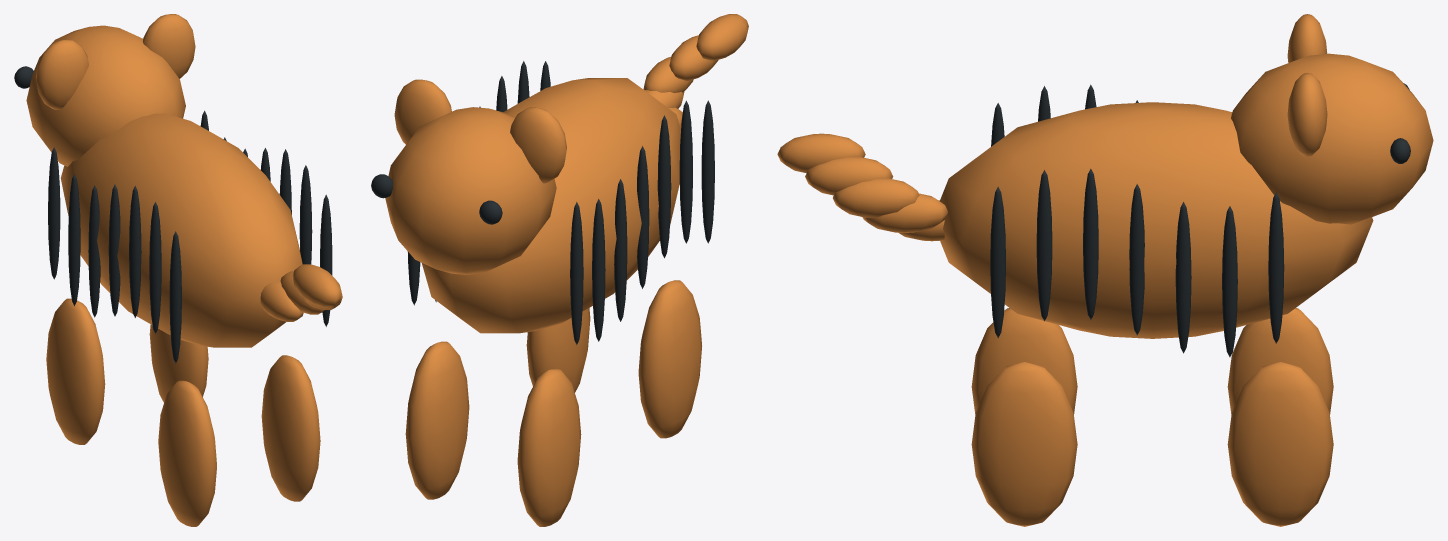
Rendered from animal_tiger.glb.
3 renders of one model, left to right at view 1: azimuth 30°, elevation 25°; view 2: azimuth 150°, elevation 25°; view 3: azimuth 270°, elevation 25°, orthographic. The views are drawn at different scales.
Parts seen in each view (by area): view 1: Body, LegBL, LegBR, LegFL, LegFR; view 2: Body, LegFR, LegBL, LegFL, LegBR; view 3: Body, LegFR, LegBR, LegBL, LegFL.
Boxes of the visible parts, bbox=[...] form: Body: bbox=[14, 14, 342, 363]; LegBL: bbox=[158, 380, 216, 526]; LegBR: bbox=[261, 355, 320, 501]; LegFL: bbox=[46, 298, 105, 444]; LegFR: bbox=[149, 324, 208, 402]; Body: bbox=[371, 14, 748, 344]; LegFR: bbox=[405, 341, 469, 499]; LegBL: bbox=[638, 280, 701, 438]; LegFL: bbox=[517, 369, 581, 526]; LegBR: bbox=[526, 308, 590, 392]; Body: bbox=[777, 14, 1433, 357]; LegFR: bbox=[1227, 362, 1333, 526]; LegBR: bbox=[971, 362, 1077, 526]; LegBL: bbox=[971, 308, 1077, 414]; LegFL: bbox=[1227, 308, 1333, 414].
Bounding box in the file's own units: 0.77 × 1.81 × 2.38.
